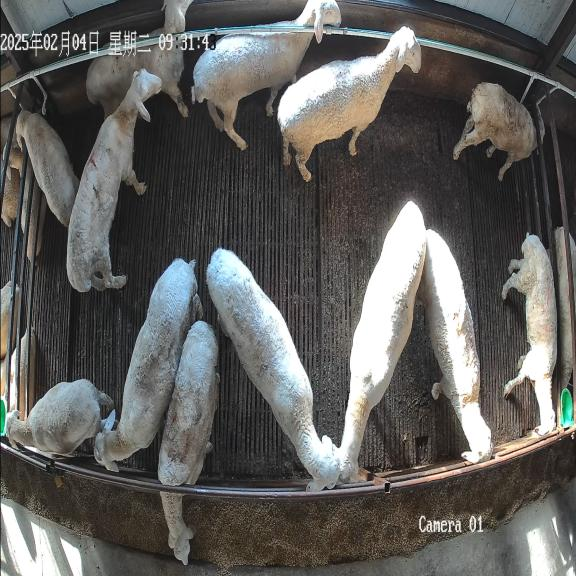drinking: (453, 82, 545, 180), (16, 110, 80, 227)
eating: (158, 321, 219, 564)
stand: (206, 248, 339, 488), (339, 201, 427, 480), (94, 259, 202, 470), (191, 0, 341, 150), (277, 26, 421, 181), (67, 70, 161, 292), (417, 229, 492, 460), (86, 0, 193, 117), (502, 234, 557, 435), (5, 379, 113, 455)
